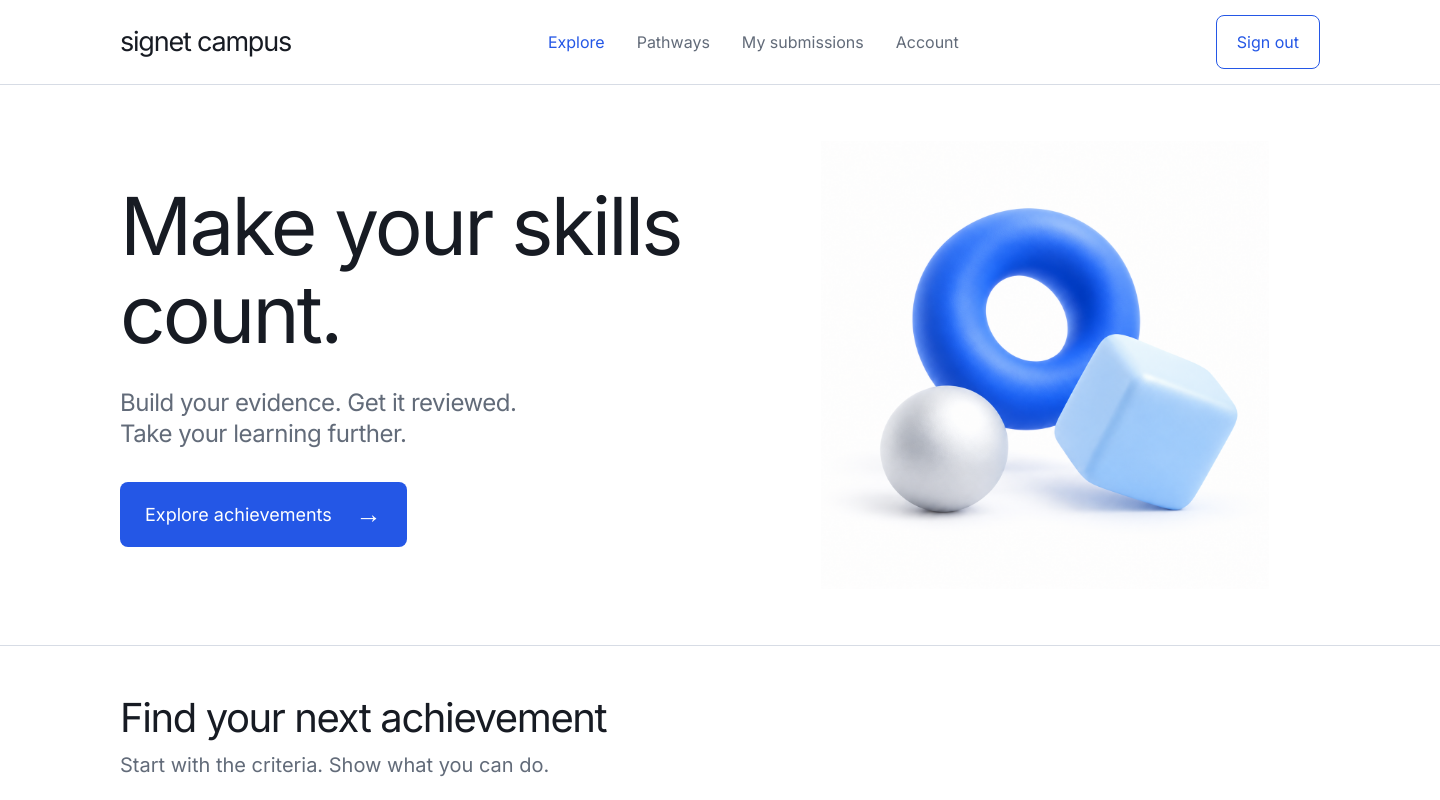
shows prerequisite criteria and explains why enrollment is blocked
Click the button "Pathways" at (673, 42), box [637, 16, 710, 68]
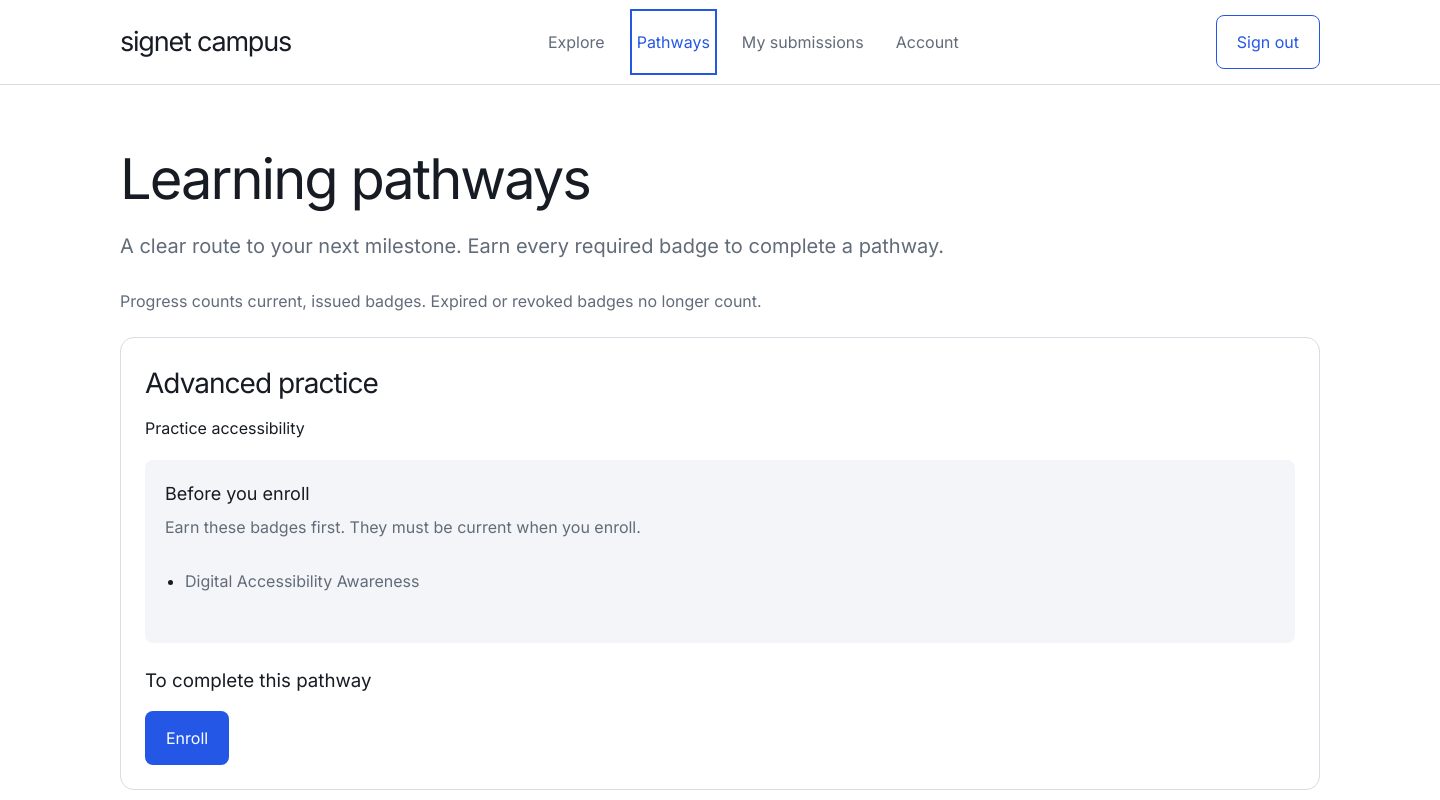
Expected: the heading "Before you enroll" is shown, [165, 483, 310, 504]
Click the button "Enroll" at (187, 738), box [145, 711, 229, 765]
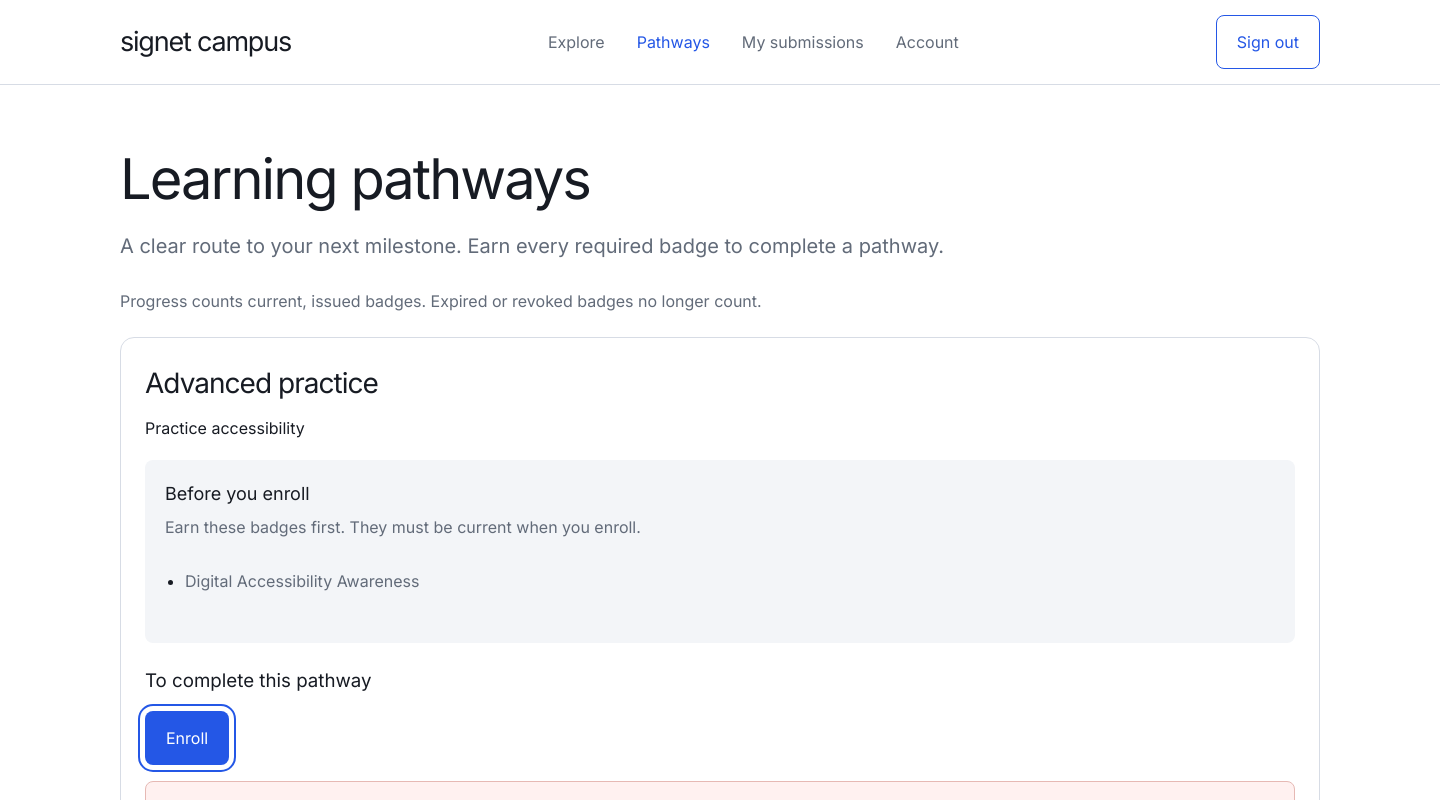
Click the button "Digital Accessibility Awareness" at (302, 581), box [185, 555, 420, 607]
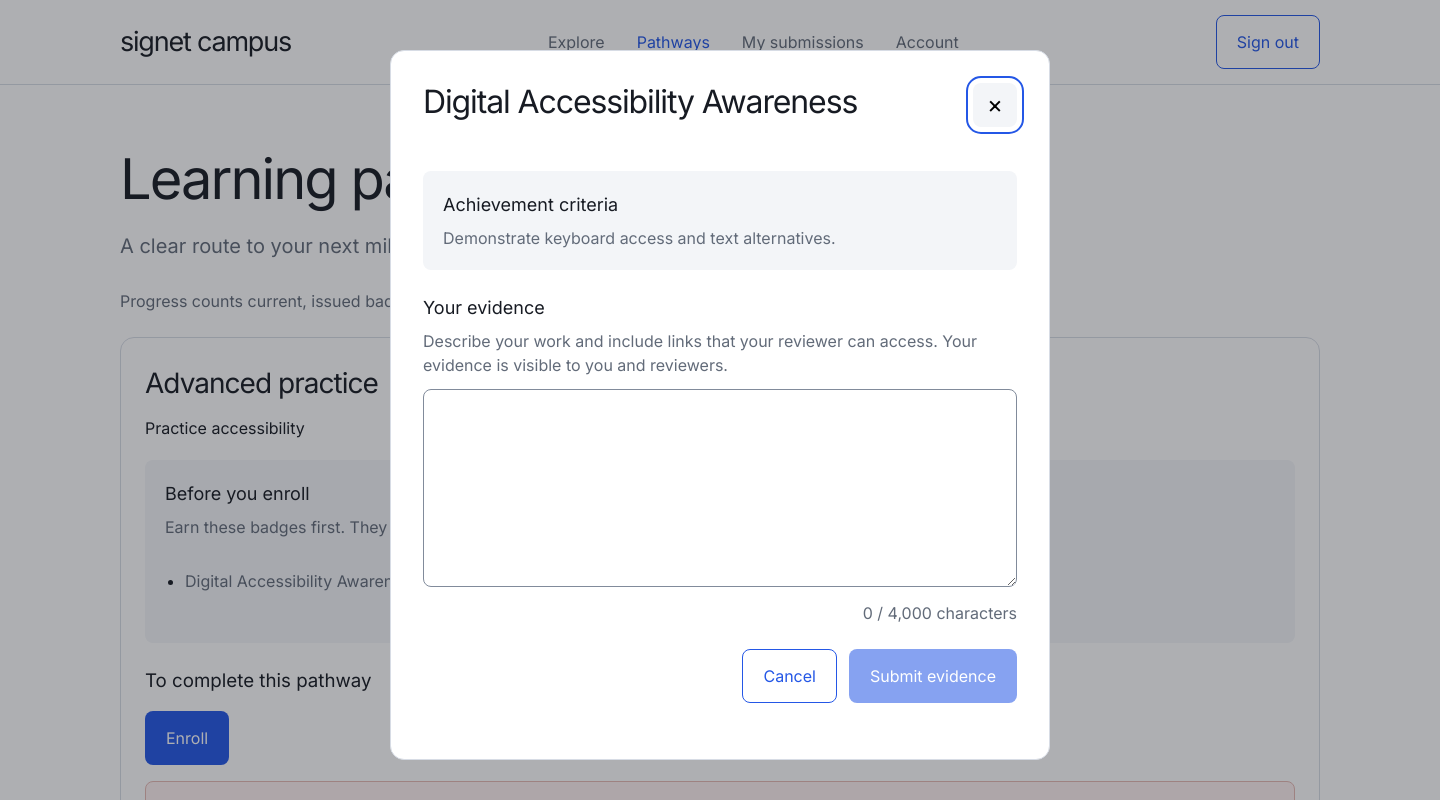
Expected: the text "Demonstrate keyboard access and text alternatives." is shown, [443, 228, 836, 248]
